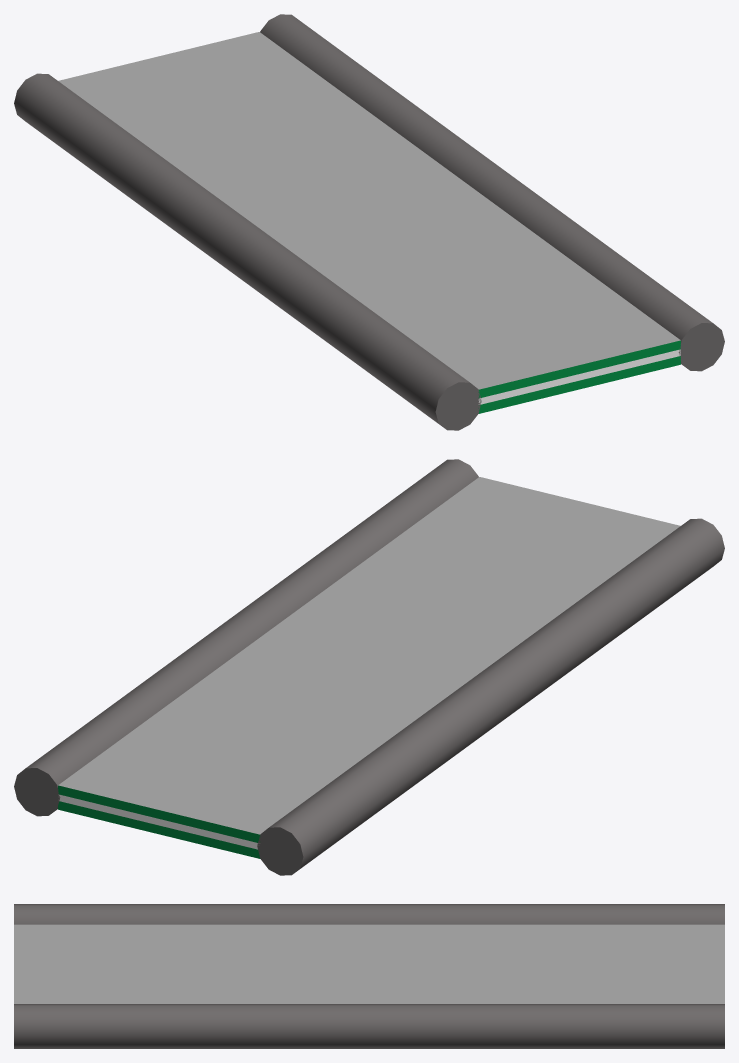
File: PLF0110184.fbx
3 views of the same model, one above another, from view 1: azimuth 30°, elevation 25°; view 2: azimuth 150°, elevation 25°; view 3: azimuth 270°, elevation 25° (orthographic). The views are drawn at different scales.
Visible parts, largest first — view 1: smPLF0110184; view 2: smPLF0110184; view 3: smPLF0110184.
Boxes of the visible parts, bbox=[...] form: smPLF0110184: bbox=[14, 14, 724, 430]; smPLF0110184: bbox=[14, 459, 724, 875]; smPLF0110184: bbox=[14, 904, 724, 1048].
Size of the model in its own units: 183 by 29.18 by 461.
2 materials, 1 textured.
